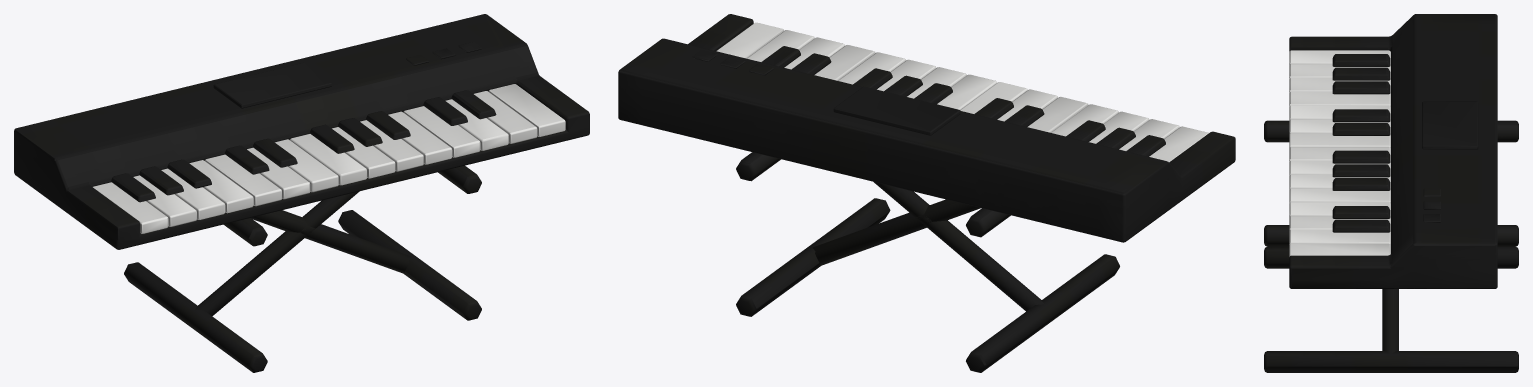
File: Piano.fbx
3 views of the same model, side by side, from view 1: azimuth 30°, elevation 25°; view 2: azimuth 150°, elevation 25°; view 3: azimuth 270°, elevation 25° (orthographic). The views are drawn at different scales.
Visible parts, largest first — view 1: keybroad_set_01.145, keybroad_set_01.029, keybroad_set_01.033, keybroad_set_01.032, keybroad_set_01.031, keybroad_set_01.142, keybroad_set_01.150, keybroad_set_01.063, keybroad_set_01.046, keybroad_set_01.030, keybroad_set_01.010, keybroad_set_01.006 (+23 smaller); view 2: keybroad_set_01.029, keybroad_set_01.145, keybroad_set_01.033, keybroad_set_01.032, keybroad_set_01.031, keybroad_set_01.150, keybroad_set_01.142, keybroad_set_01.063, keybroad_set_01.010, keybroad_set_01.006, keybroad_set_01, keybroad_set_01.014 (+14 smaller); view 3: keybroad_set_01.145, keybroad_set_01.029, keybroad_set_01.150, keybroad_set_01.142, keybroad_set_01.035, keybroad_set_01.013, keybroad_set_01.063, keybroad_set_01.017, keybroad_set_01.008, keybroad_set_01.046, keybroad_set_01.033, keybroad_set_01.031 (+23 smaller).
Boxes of the visible parts, bbox=[...] form: keybroad_set_01.145: bbox=[15, 14, 589, 249]; keybroad_set_01.029: bbox=[14, 14, 538, 249]; keybroad_set_01.033: bbox=[124, 262, 267, 372]; keybroad_set_01.032: bbox=[195, 191, 359, 316]; keybroad_set_01.031: bbox=[251, 210, 411, 273]; keybroad_set_01.142: bbox=[215, 63, 331, 107]; keybroad_set_01.150: bbox=[338, 210, 481, 320]; keybroad_set_01.063: bbox=[489, 84, 565, 136]; keybroad_set_01.046: bbox=[275, 139, 338, 192]; keybroad_set_01.030: bbox=[92, 83, 567, 237]; keybroad_set_01.010: bbox=[290, 134, 366, 185]; keybroad_set_01.006: bbox=[403, 106, 480, 157]; keybroad_set_01.029: bbox=[618, 69, 1235, 242]; keybroad_set_01.145: bbox=[620, 14, 1235, 193]; keybroad_set_01.033: bbox=[966, 254, 1119, 372]; keybroad_set_01.032: bbox=[873, 181, 1044, 311]; keybroad_set_01.031: bbox=[812, 199, 980, 265]; keybroad_set_01.150: bbox=[736, 198, 890, 308]; keybroad_set_01.142: bbox=[834, 86, 958, 130]; keybroad_set_01.063: bbox=[716, 22, 783, 57]; keybroad_set_01.010: bbox=[937, 74, 997, 109]; keybroad_set_01.006: bbox=[814, 45, 875, 80]; keybroad_set_01: bbox=[1027, 97, 1088, 132]; keybroad_set_01.014: bbox=[1149, 126, 1208, 162]; keybroad_set_01.145: bbox=[1289, 14, 1495, 287]; keybroad_set_01.029: bbox=[1290, 14, 1497, 288]; keybroad_set_01.150: bbox=[1264, 351, 1517, 372]; keybroad_set_01.142: bbox=[1422, 102, 1477, 148]; keybroad_set_01.035: bbox=[1267, 353, 1518, 372]; keybroad_set_01.013: bbox=[1289, 188, 1390, 203]; keybroad_set_01.063: bbox=[1289, 243, 1390, 256]; keybroad_set_01.017: bbox=[1290, 92, 1390, 106]; keybroad_set_01.008: bbox=[1290, 230, 1390, 244]; keybroad_set_01.046: bbox=[1289, 133, 1390, 148]; keybroad_set_01.033: bbox=[1264, 246, 1518, 268]; keybroad_set_01.031: bbox=[1382, 289, 1398, 353].
Size of the model in its own units: 83.42 by 32.87 by 39.
